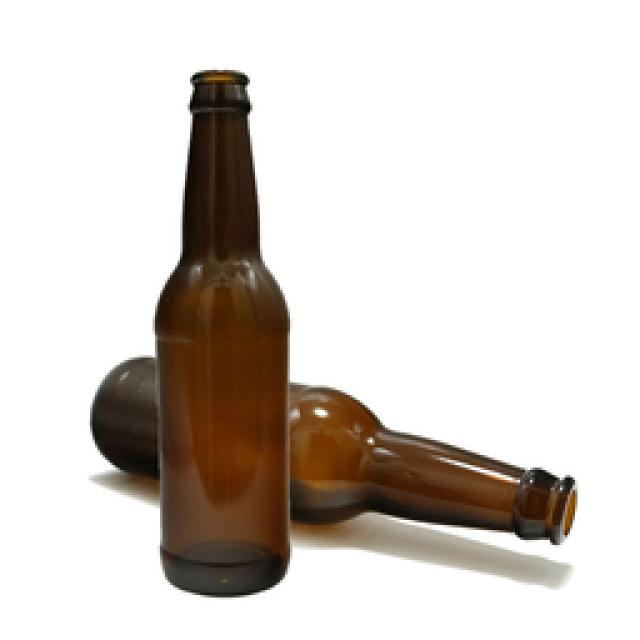glass_beverage_bottles: (153, 63, 290, 607), (292, 390, 586, 555)
